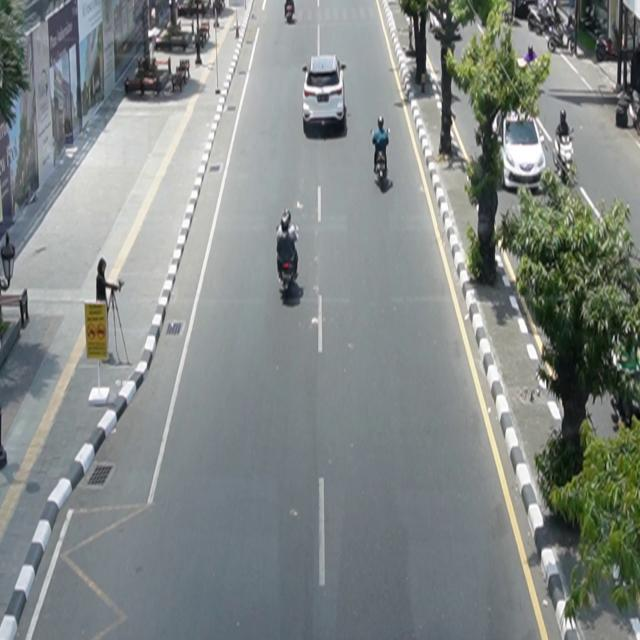car: (492, 107, 547, 194), (303, 55, 348, 129)
